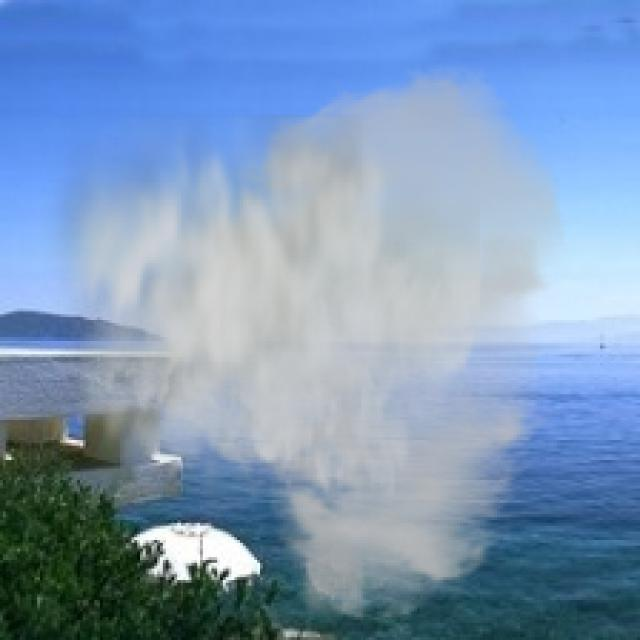Smoke: (40, 60, 569, 626)
